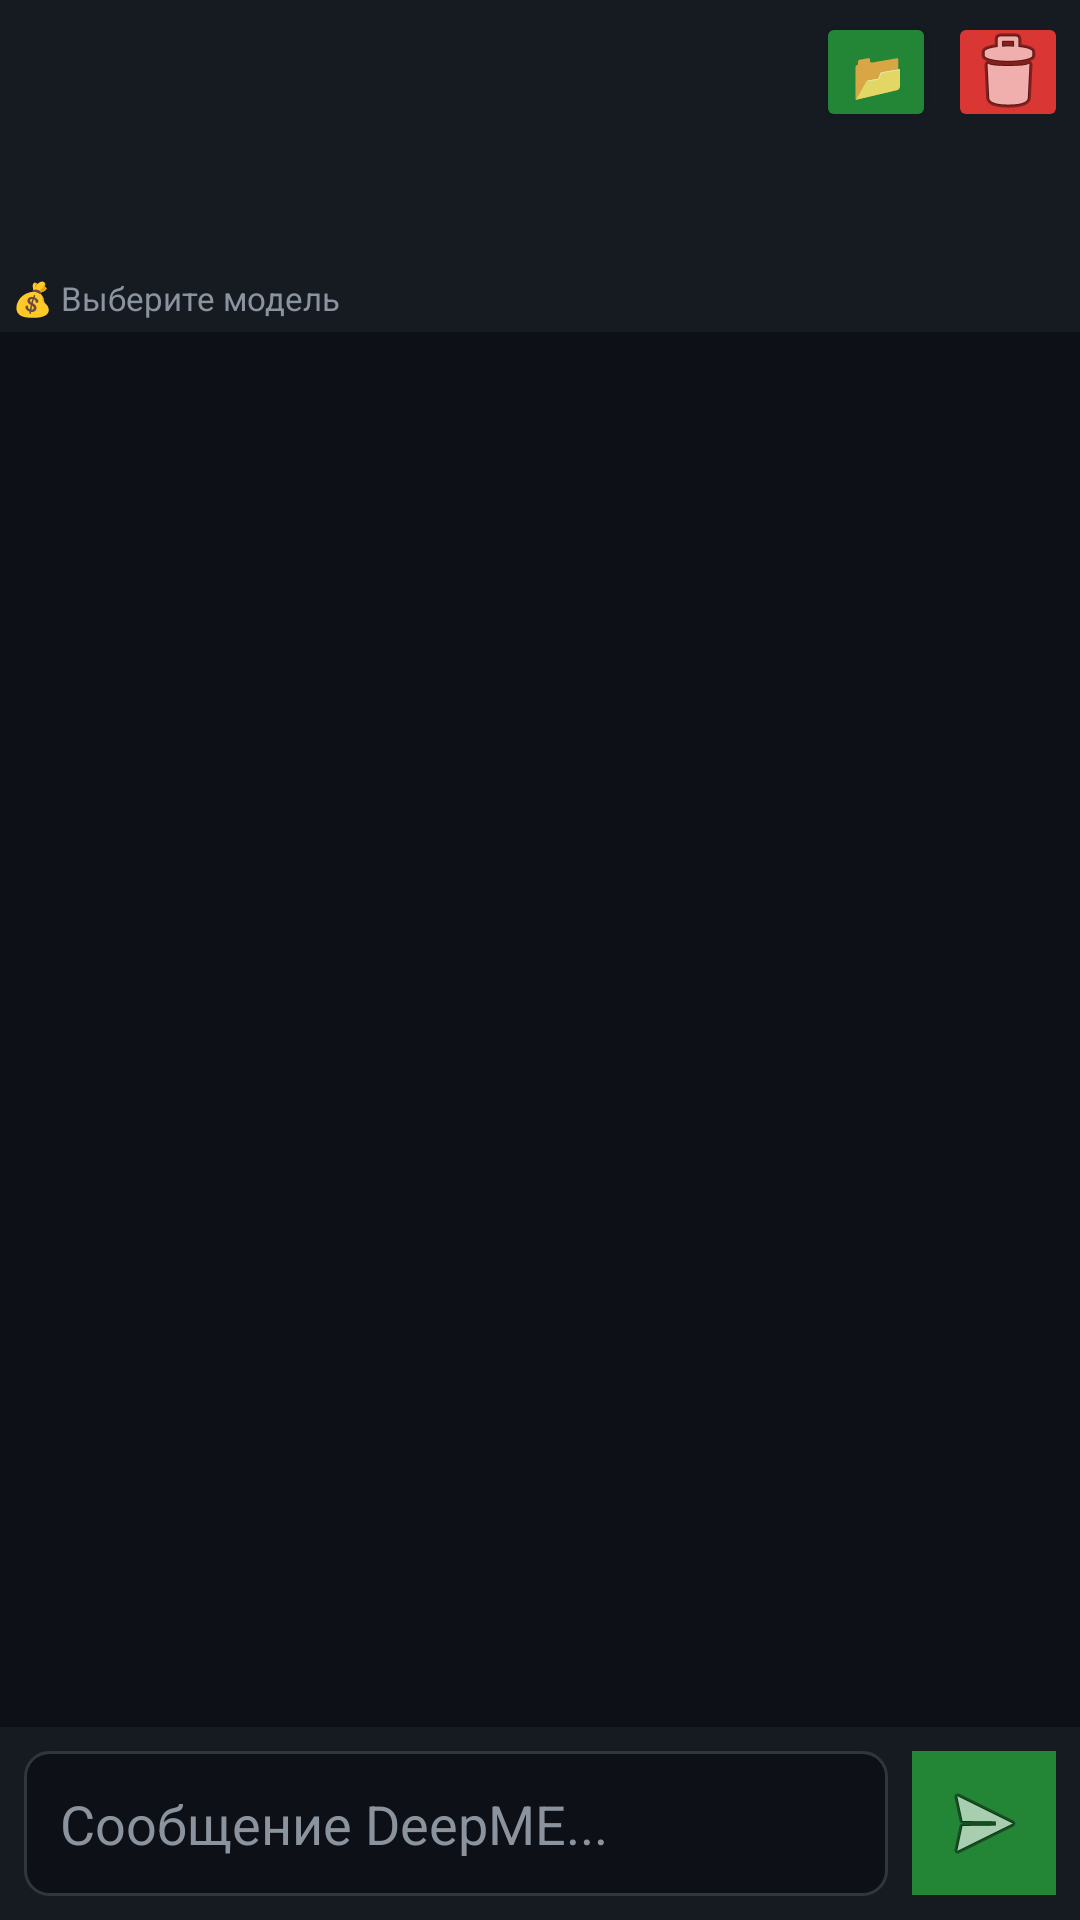

Named icons in this screenshot (1080w x 1920h) and their bounding boxes, detection(x1, y1, x2, y2):
delete: detection(960, 30, 1056, 114)
send: detection(912, 1751, 1056, 1895)
